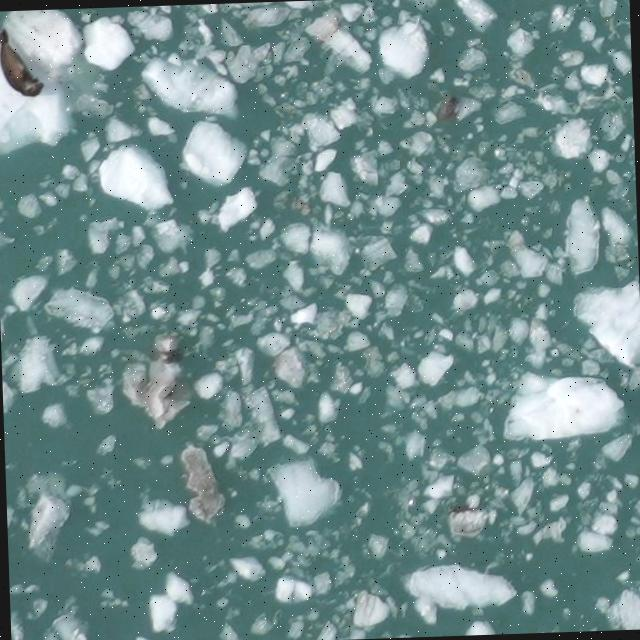seal: (0, 25, 48, 107)
